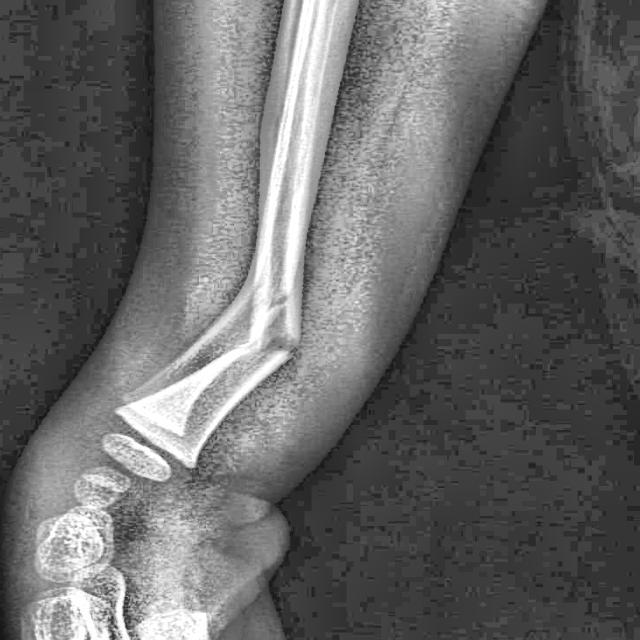fracture: (233, 289, 303, 381)
